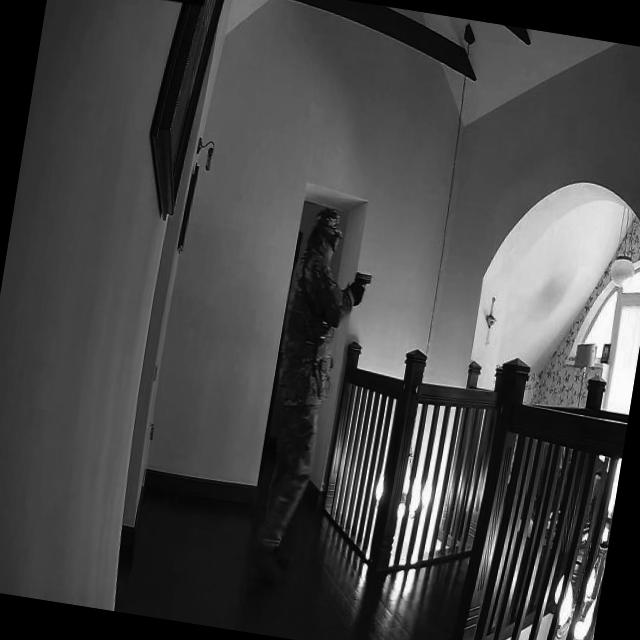gun: (352, 268, 376, 299)
person: (244, 204, 354, 592)
